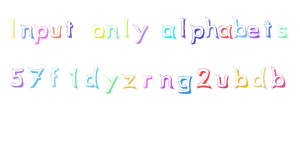1: (66, 66, 81, 89)
2: (195, 67, 213, 89)
5: (9, 67, 26, 88)
7: (28, 66, 45, 89)
I: (6, 15, 24, 39)
a: (160, 22, 178, 40), (217, 22, 233, 39)
b: (269, 66, 286, 89), (232, 14, 247, 40), (233, 66, 249, 88)
d: (84, 66, 100, 89), (252, 66, 268, 89)
e: (246, 22, 260, 39)
f: (48, 66, 60, 88)
g: (176, 74, 193, 95)
h: (204, 16, 219, 39)
l: (178, 16, 188, 40), (121, 15, 130, 39)
n: (159, 72, 176, 90), (105, 23, 121, 40), (19, 23, 35, 39)
o: (90, 24, 105, 39)
p: (33, 24, 49, 46), (189, 24, 205, 46)
r: (140, 73, 153, 89)
s: (275, 23, 288, 39)
t: (262, 18, 274, 39), (64, 18, 74, 39)
u: (48, 24, 63, 40), (215, 73, 229, 88)
y: (132, 22, 150, 45), (102, 73, 119, 95)
z: (122, 73, 139, 90)
